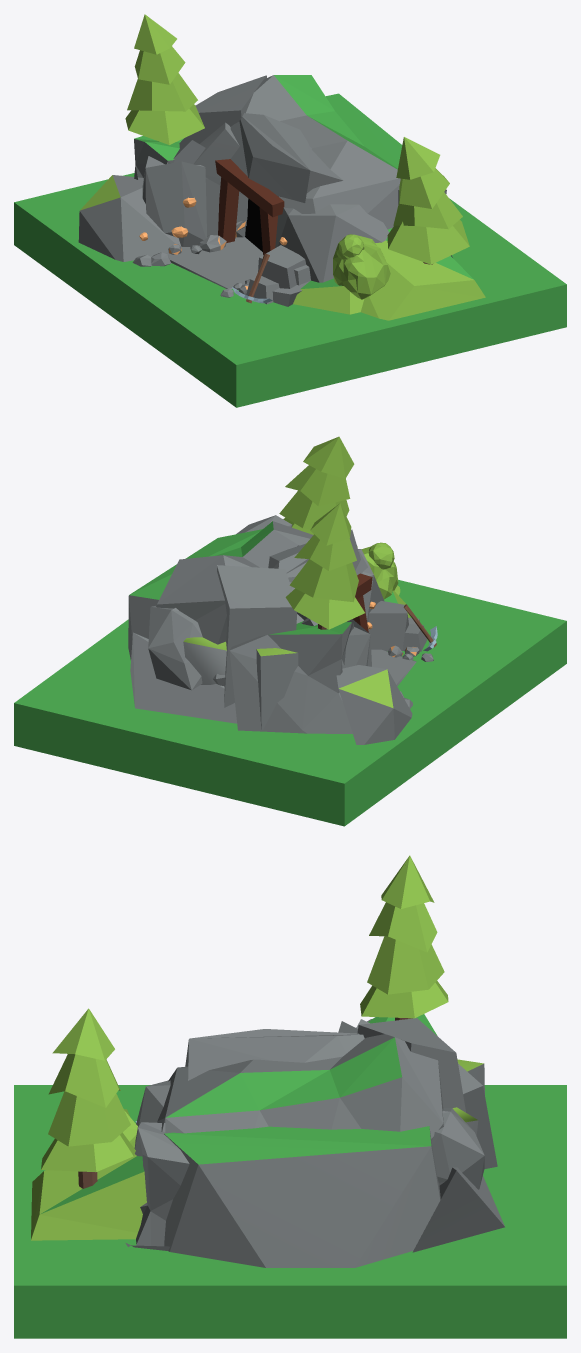
Rendered from mine_lvl1.fbx.
3 views of the same model, one above another, from view 1: azimuth 30°, elevation 25°; view 2: azimuth 150°, elevation 25°; view 3: azimuth 270°, elevation 25° (orthographic). The views are drawn at different scales.
Parts seen in each view (by area): view 1: terrain, group1774266040, group1731338008, group1623525114, group1806860140, group981371949, group897427996, group595478641, group1806860140.001, group414712452.001, group414712452.002, group414712452 (+10 smaller); view 2: terrain, group954393760, group717177999, group1774266040, group1623525114, group981371949, group1731338008, group1774266040.001, group76132093, group624108358.001, group414712452, group1806860140.001 (+5 smaller); view 3: terrain, group624108358.001, group1774266040, group1731338008, group1623525114, group897427996, group1806860140, group954393760.001, group1774266040.001, group717177999, group76132093, group954393760 (+1 smaller).
Part boxes in pixels (box(x1,y1,x2,y2)): terrain: box(14, 173, 566, 407); group1774266040: box(246, 75, 400, 229); group1731338008: box(387, 137, 469, 264); group1623525114: box(125, 14, 204, 144); group1806860140: box(230, 113, 343, 202); group981371949: box(78, 175, 181, 261); group897427996: box(361, 228, 485, 320); group595478641: box(275, 200, 389, 282); group1806860140.001: box(142, 156, 207, 246); group414712452.001: box(173, 122, 248, 236); group414712452.002: box(165, 237, 262, 289); group414712452: box(246, 245, 310, 306); terrain: box(14, 579, 566, 826); group954393760: box(229, 621, 353, 733); group717177999: box(183, 565, 298, 729); group1774266040: box(156, 521, 367, 644); group1623525114: box(285, 503, 364, 629); group981371949: box(336, 665, 412, 744); group1731338008: box(279, 436, 357, 546); group1774266040.001: box(130, 632, 237, 723); group76132093: box(148, 606, 202, 690); group624108358.001: box(128, 529, 262, 659); group414712452: box(368, 601, 426, 651); group1806860140.001: box(341, 619, 371, 668); terrain: box(14, 1085, 566, 1338); group624108358.001: box(164, 1126, 440, 1267); group1774266040: box(157, 1034, 450, 1140); group1731338008: box(41, 1008, 135, 1188); group1623525114: box(360, 855, 448, 1020); group897427996: box(31, 1141, 146, 1240); group1806860140: box(185, 1029, 364, 1080); group954393760.001: box(125, 1122, 189, 1250); group1774266040.001: box(412, 1167, 504, 1252); group717177999: box(357, 1018, 484, 1135); group76132093: box(431, 1108, 484, 1189); group954393760: box(368, 1014, 497, 1169).
Size of the model in its own units: 265 by 206 by 309.
